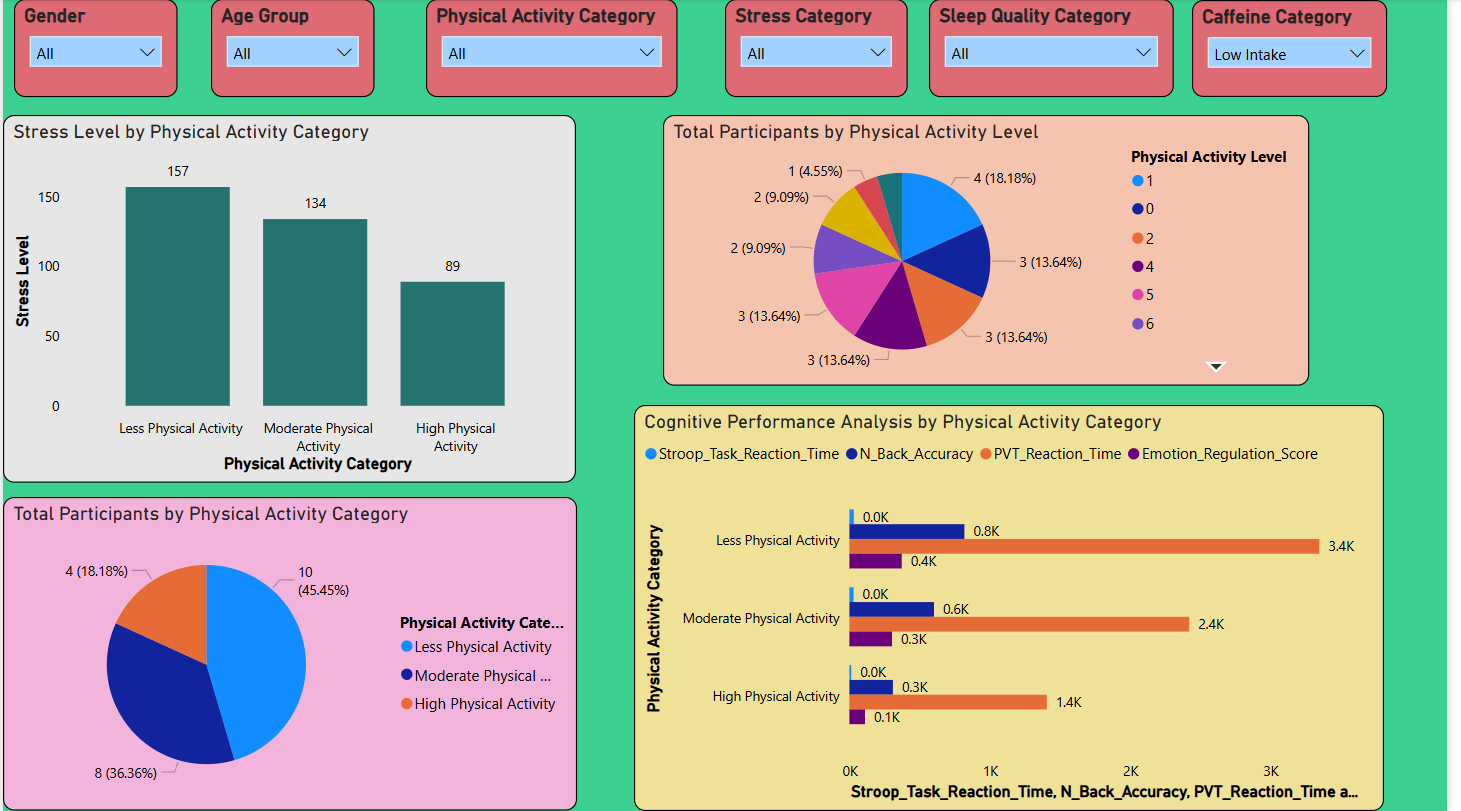

The page's visual inventory and layout, read from the dashboard file:
{"tool":"powerbi","page":{"name":"Analysis by physical activity level","canvas":[1280,720],"ordinal":4},"visuals":[{"type":"columnChart","fields":{"Category":["sleep_deprivation_dataset_detai.Physical Activity Category"],"Y":["Sum(sleep_deprivation_dataset_detai.Stress_Level)"]},"box":[0,103.1,507.7,325.8],"z":0},{"type":"clusteredBarChart","title":"Cognitive Performance Analysis  by Physical Activity Category","fields":{"Y":["Sum(sleep_deprivation_dataset_detai.Stroop_Task_Reaction_Time)","Sum(sleep_deprivation_dataset_detai.N_Back_Accuracy)","Sum(sleep_deprivation_dataset_detai.PVT_Reaction_Time)","Sum(sleep_deprivation_dataset_detai.Emotion_Regulation_Score)"],"Category":["sleep_deprivation_dataset_detai.Physical Activity Category"]},"box":[559.3,359.9,665.3,359.9],"z":1000},{"type":"pieChart","fields":{"Category":["sleep_deprivation_dataset_detai.Physical Activity Category"],"Y":["CountNonNull(sleep_deprivation_dataset_detai.Participant_ID)"]},"box":[0,441.6,508.7,278.2],"z":2000},{"type":"pieChart","fields":{"Category":["sleep_deprivation_dataset_detai.Physical_Activity_Level"],"Y":["CountNonNull(sleep_deprivation_dataset_detai.Participant_ID)"]},"box":[585.5,103.1,572.9,240.2],"z":3000},{"type":"slicer","title":"Gender","fields":{"Values":["sleep_deprivation_dataset_detai.Gender"]},"box":[9.7,0,144.9,86.6],"z":3001},{"type":"slicer","title":"Age Group","fields":{"Values":["sleep_deprivation_dataset_detai.Age Group"]},"box":[184.8,0,144.9,86.6],"z":3002},{"type":"slicer","title":"Physical Activity Category","fields":{"Values":["sleep_deprivation_dataset_detai.Physical Activity Category"]},"box":[375.4,0,222.7,86.6],"z":3003},{"type":"slicer","title":"Stress  Category","fields":{"Values":["sleep_deprivation_dataset_detai.Stress Category"]},"box":[640,0,162.4,86.6],"z":3004},{"type":"slicer","title":"Caffeine Category","fields":{"Values":["sleep_deprivation_dataset_detai.coffee intake category"]},"box":[1054.3,1,173.1,85.6],"z":3005},{"type":"slicer","title":"Sleep Quality Category","fields":{"Values":["sleep_deprivation_dataset_detai.Sleep Quality category"]},"box":[820.9,0,216.9,86.6],"z":3006}]}

Visuals, with their boxes in screenshot pixels (x1, y1, x2, y2), scaled from the page's 1280x720 canvas onto the 1461x811 screenshot:
columnChart - sleep_deprivation_dataset_detai.Physical Activity Category x Sum(sleep_deprivation_dataset_detai.Stress_Level): {"left": 0, "top": 116, "right": 579, "bottom": 483}
"Cognitive Performance Analysis  by Physical Activity Category" clusteredBarChart: {"left": 638, "top": 405, "right": 1398, "bottom": 810}
pieChart - sleep_deprivation_dataset_detai.Physical Activity Category x CountNonNull(sleep_deprivation_dataset_detai.Participant_ID): {"left": 0, "top": 497, "right": 581, "bottom": 810}
pieChart - sleep_deprivation_dataset_detai.Physical_Activity_Level x CountNonNull(sleep_deprivation_dataset_detai.Participant_ID): {"left": 668, "top": 116, "right": 1322, "bottom": 387}
"Gender" slicer: {"left": 11, "top": 0, "right": 176, "bottom": 98}
"Age Group" slicer: {"left": 211, "top": 0, "right": 376, "bottom": 98}
"Physical Activity Category" slicer: {"left": 428, "top": 0, "right": 683, "bottom": 98}
"Stress  Category" slicer: {"left": 730, "top": 0, "right": 916, "bottom": 98}
"Caffeine Category" slicer: {"left": 1203, "top": 1, "right": 1401, "bottom": 98}
"Sleep Quality Category" slicer: {"left": 937, "top": 0, "right": 1185, "bottom": 98}
